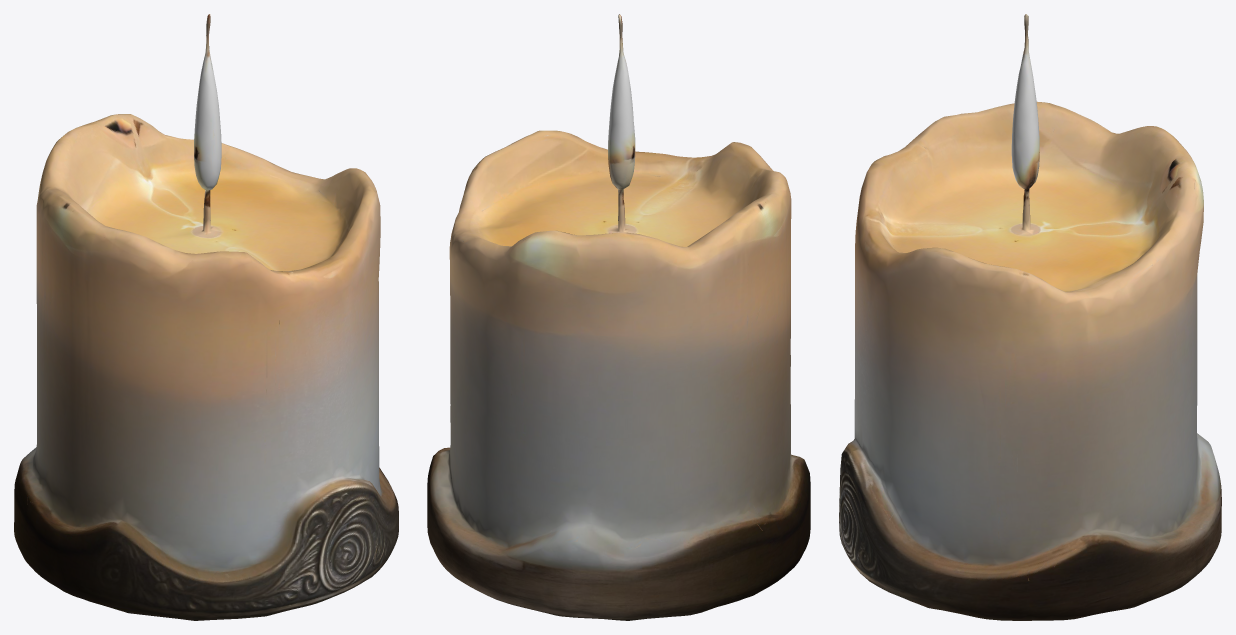
The model's file is Meshy_AI_candle_object_only_0327215752_texture.glb.
3 views of the same model, side by side, from view 1: azimuth 30°, elevation 25°; view 2: azimuth 150°, elevation 25°; view 3: azimuth 270°, elevation 25° (orthographic).
Size of the model in its own units: 1.32 by 2.04 by 1.31.
Materials: 1 (1 with a texture image).
